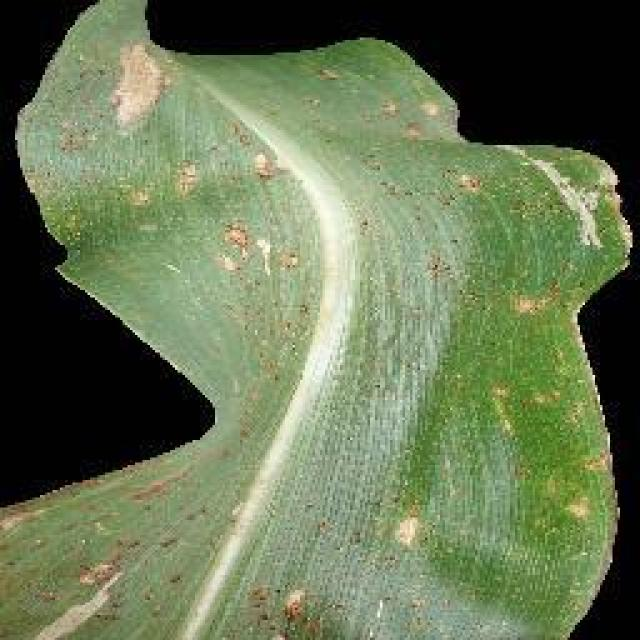Corn Common Rust: (154, 125, 534, 592)
